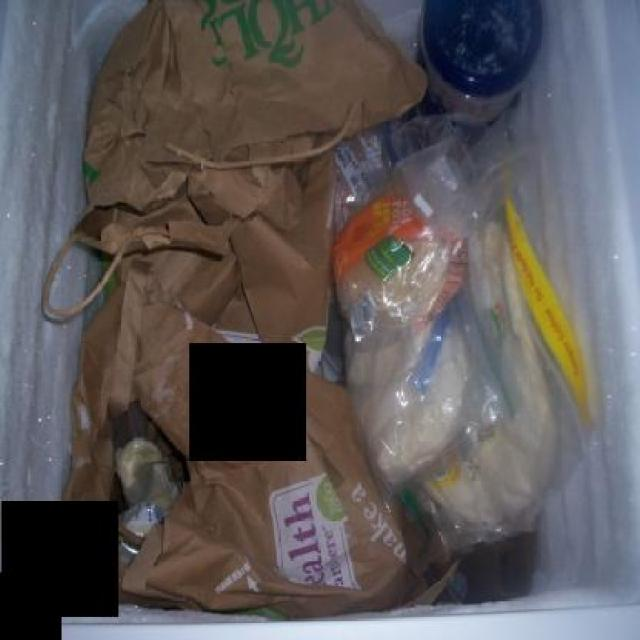plastic bag: (332, 105, 602, 557)
